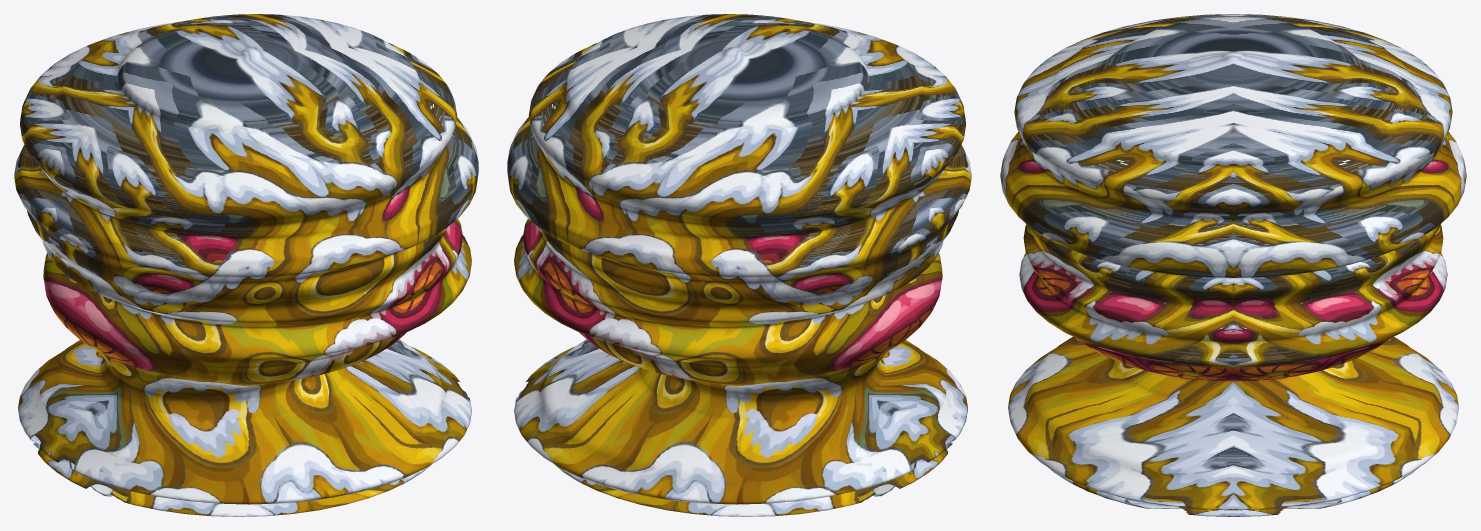
Rendered from golden_tree.glb.
3 renders of one model, left to right at view 1: azimuth 30°, elevation 25°; view 2: azimuth 150°, elevation 25°; view 3: azimuth 270°, elevation 25°, orthographic.
Visible parts, largest first — view 1: golden_tree; view 2: golden_tree; view 3: golden_tree.
Boxes of the visible parts, <box> form: golden_tree: <box>14,14,478,516</box>; golden_tree: <box>507,14,971,516</box>; golden_tree: <box>1000,14,1466,516</box>.
Size of the model in its own units: 0.9961 by 0.9386 by 0.9942.
Materials: 1 (1 with a texture image).
